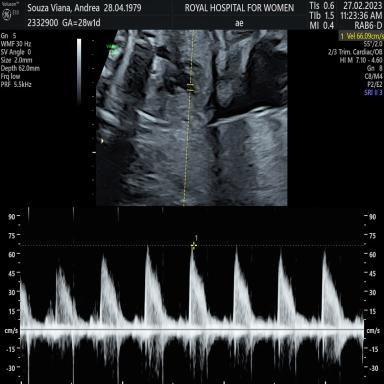Ultrasound-Waves: (22, 210, 363, 382)
